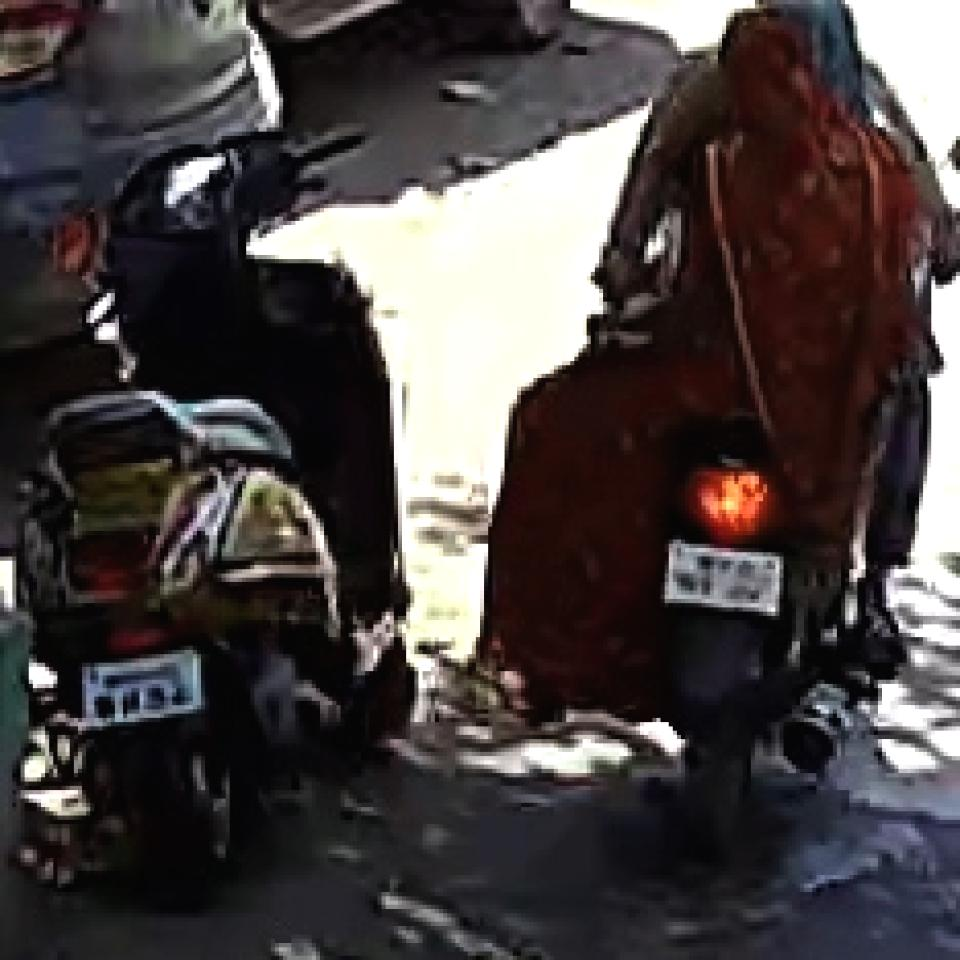tail_light: (62, 527, 154, 609), (689, 459, 776, 537)
